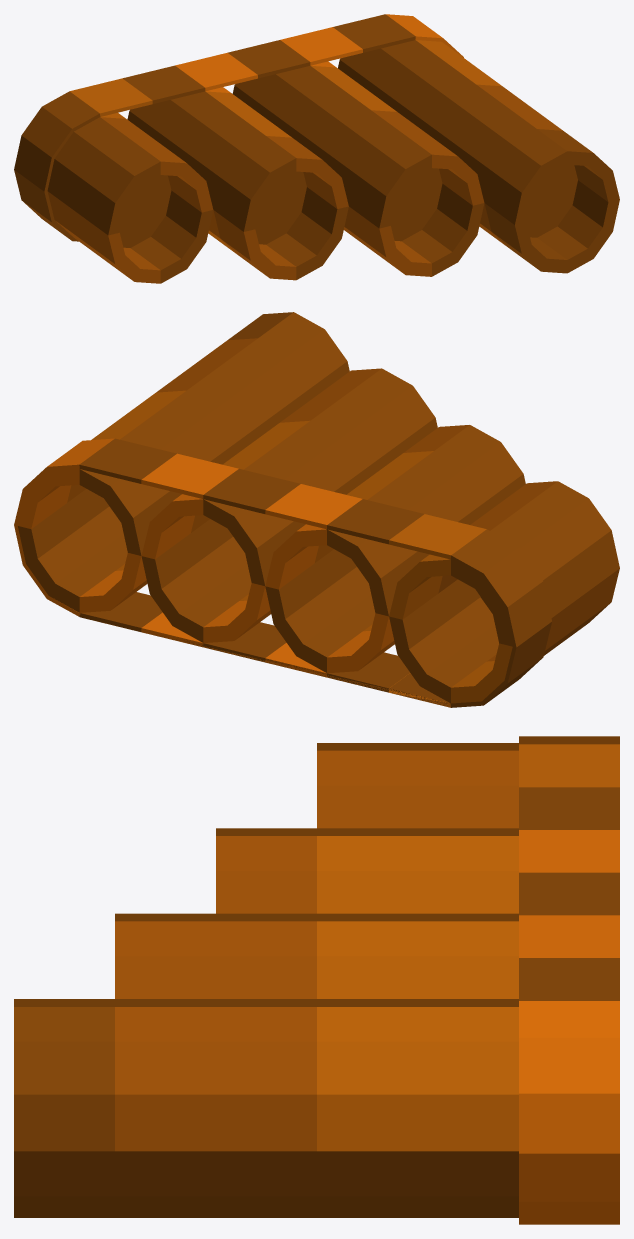
The model's file is whistle_693x00.gltf.
3 renders of one model, top to bottom at view 1: azimuth 30°, elevation 25°; view 2: azimuth 150°, elevation 25°; view 3: azimuth 270°, elevation 25°, orthographic. The views are drawn at different scales.
Visible parts, largest first — view 1: Whistle_693x00; view 2: Whistle_693x00; view 3: Whistle_693x00.
Part boxes in pixels (left/top/right/bottom): Whistle_693x00: left=14, top=14, right=619, bottom=283; Whistle_693x00: left=14, top=312, right=619, bottom=707; Whistle_693x00: left=14, top=736, right=619, bottom=1224.
Size of the model in its own units: 1.09 by 0.3154 by 0.8034.
1 material, 1 textured.
